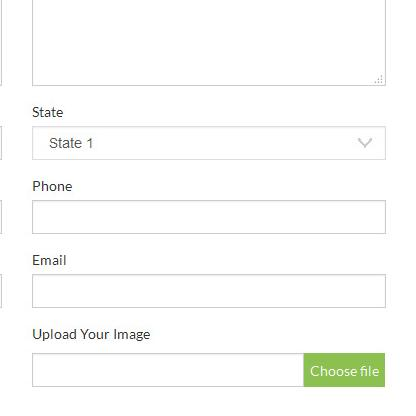button: (305, 351, 385, 388)
field: (31, 125, 388, 162), (29, 275, 389, 311), (30, 352, 306, 389)
field_with_label: (27, 252, 391, 314), (25, 106, 395, 165), (31, 178, 388, 236), (29, 328, 307, 391), (33, 198, 390, 236)
